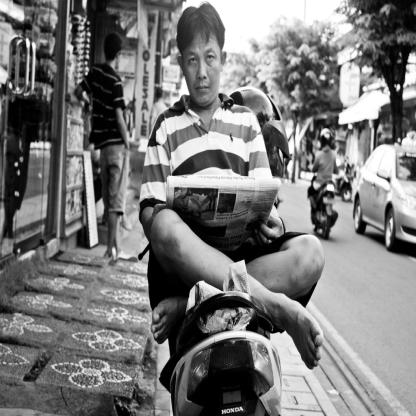Helmet: (230, 84, 290, 160), (320, 128, 332, 149)
